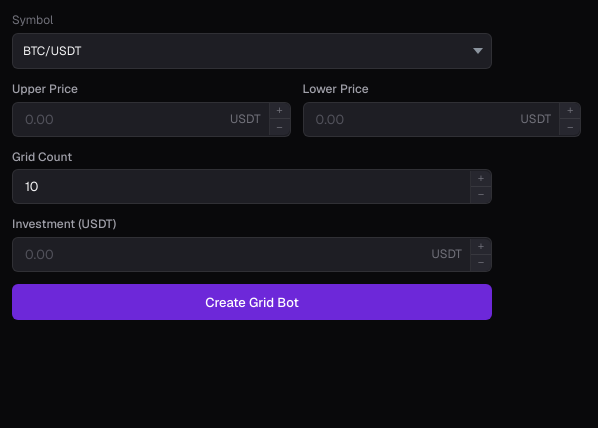
it: GridBotForm › shows grid preview when valid upper/lower prices and investment are set
In the field labelled "Upper Price": (118, 119) [13, 103, 222, 136], type "70000"
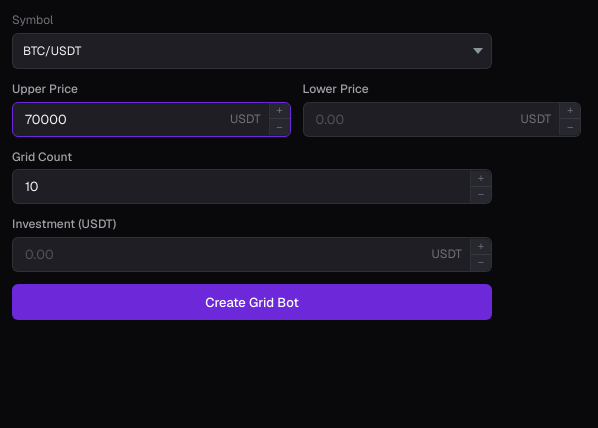
In the field labelled "Lower Price": (408, 119) [304, 103, 513, 136], type "60000"
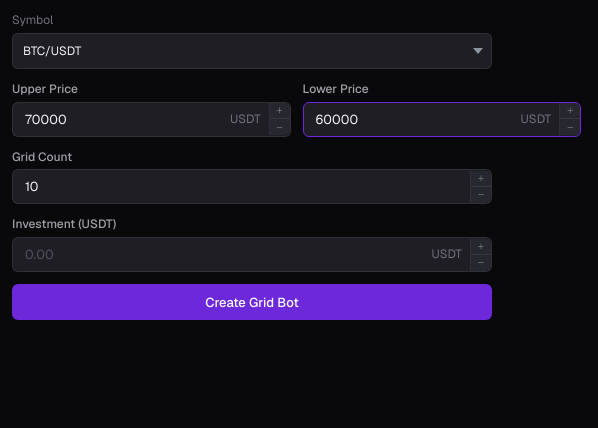
In the field labelled "Investment (USDT)": (218, 255) [13, 238, 423, 271], type "1000"
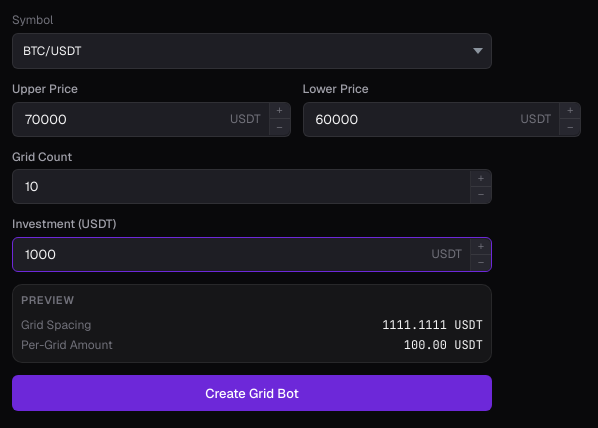
Expected: the text "Preview" is shown, [21, 293, 75, 307]
